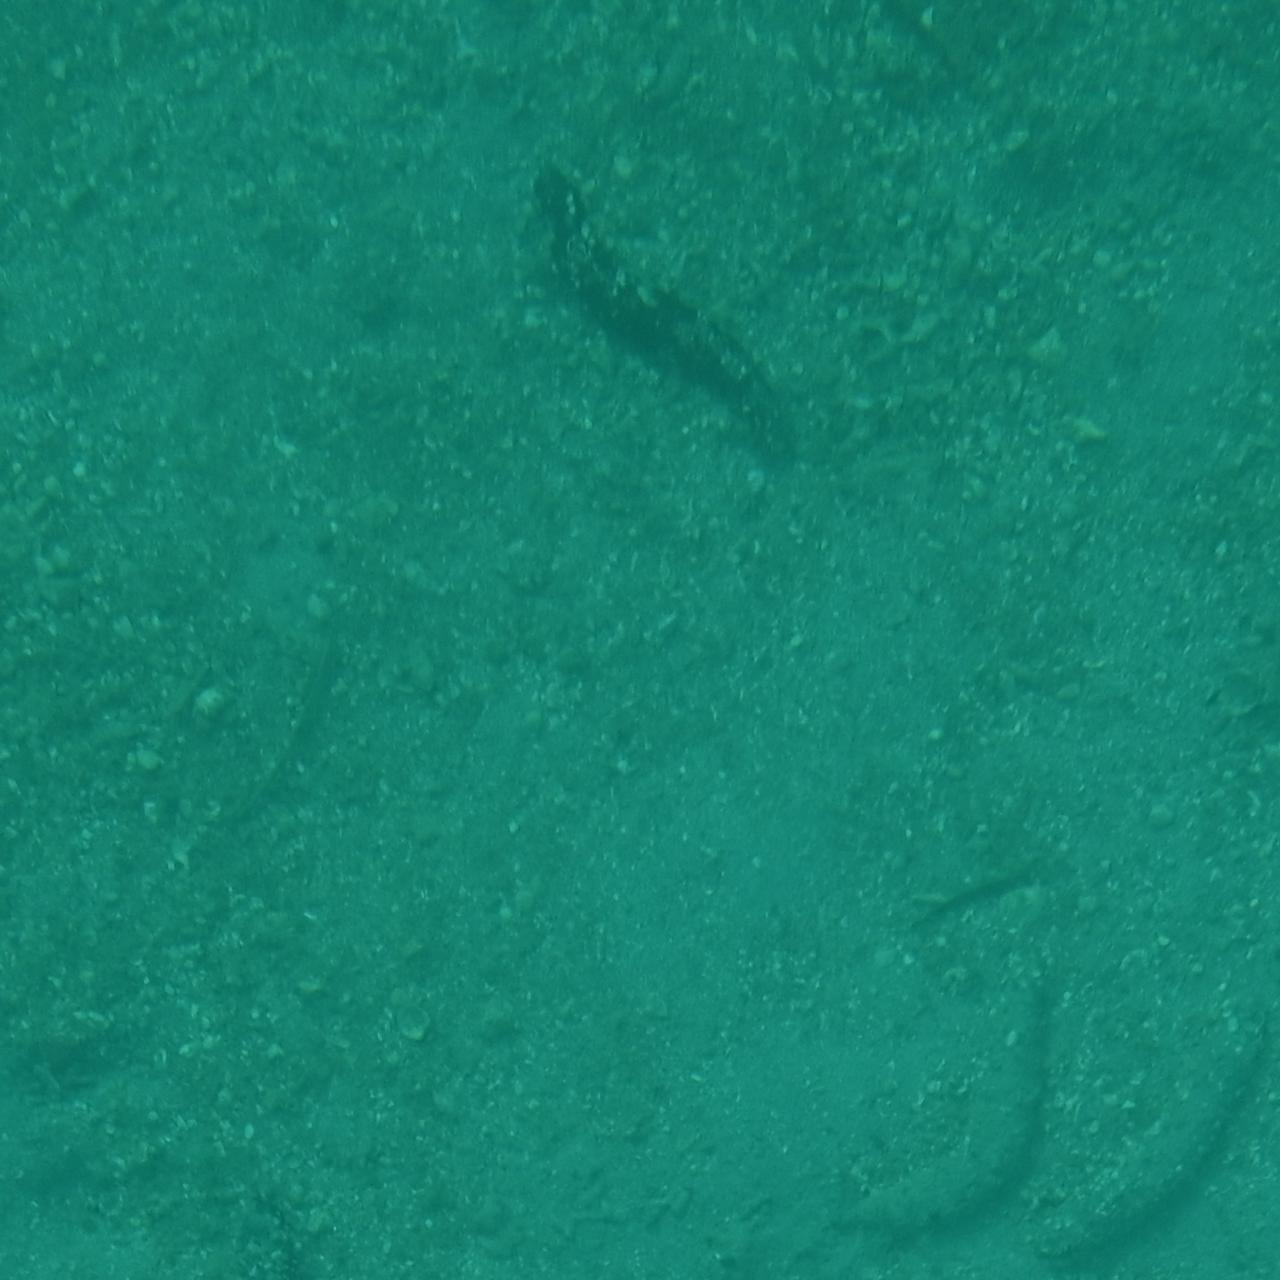Holothuria tubulosa: (512, 166, 799, 497), (828, 969, 1091, 1242), (79, 1010, 328, 1280), (1051, 993, 1280, 1275), (0, 38, 165, 263), (1191, 0, 1280, 229)
